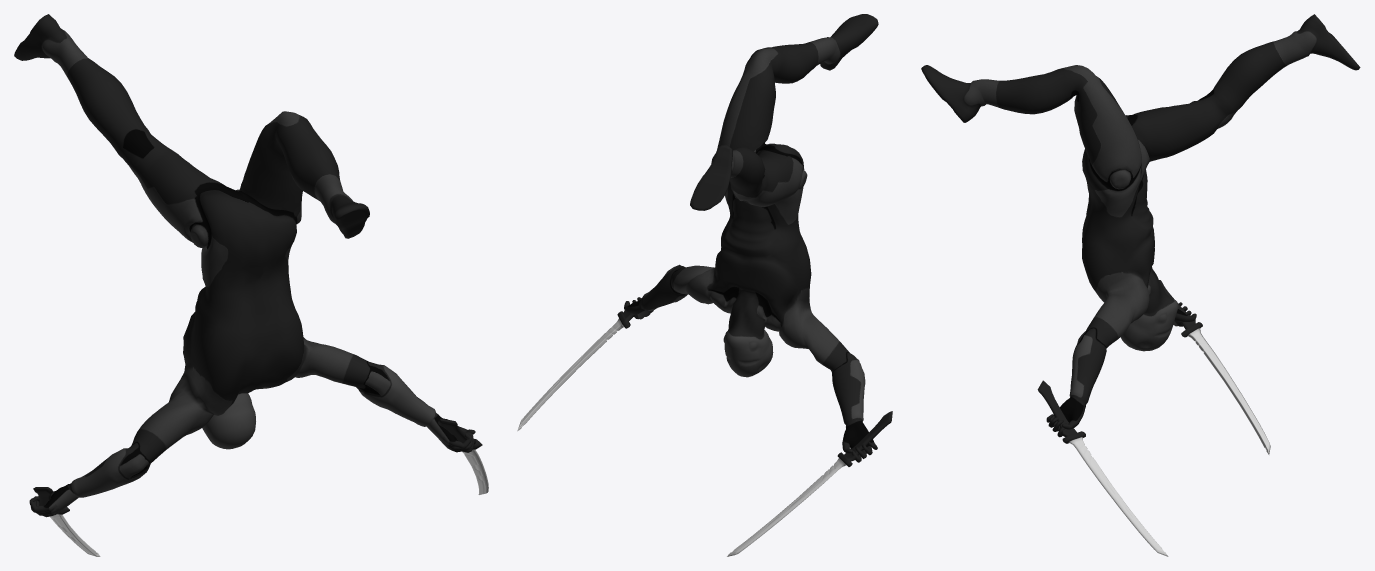
3 renders of one model, left to right at view 1: azimuth 30°, elevation 25°; view 2: azimuth 150°, elevation 25°; view 3: azimuth 270°, elevation 25°, orthographic. The views are drawn at different scales.
Parts seen in each view (by area): view 1: Cyborg_Ninja_Killer, Sword_l, Sword_l001; view 2: Cyborg_Ninja_Killer, Sword_l001, Sword_l; view 3: Cyborg_Ninja_Killer, Sword_l, Sword_l001.
Boxes of the visible parts, x1,y1,x2,y2 form: Cyborg_Ninja_Killer: (14, 14, 475, 517); Sword_l: (438, 418, 488, 494); Sword_l001: (33, 487, 100, 556); Cyborg_Ninja_Killer: (624, 14, 878, 462); Sword_l001: (727, 411, 892, 556); Sword_l: (517, 288, 653, 431); Cyborg_Ninja_Killer: (921, 14, 1360, 437); Sword_l: (1037, 380, 1168, 556); Sword_l001: (1159, 280, 1270, 454).
Size of the model in its own units: 173 by 193 by 178.
Materials: 2 (2 with a texture image).
